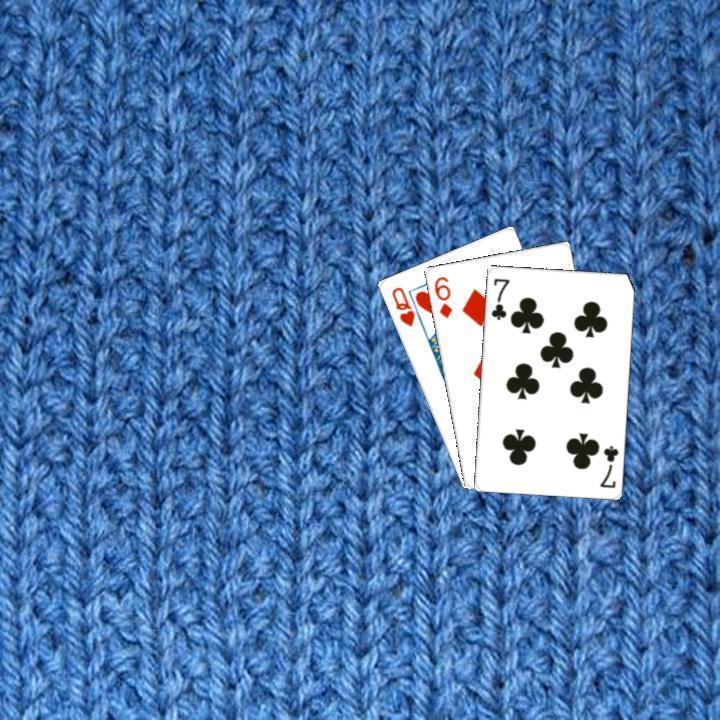6: (429, 272, 454, 320)
7: (595, 441, 620, 490), (487, 273, 511, 321)
Q: (387, 282, 416, 329)
